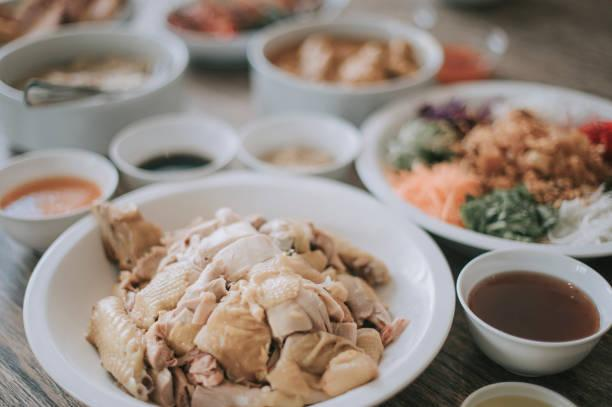Braised Crucian Carp: (22, 173, 453, 401), (357, 81, 610, 258)
